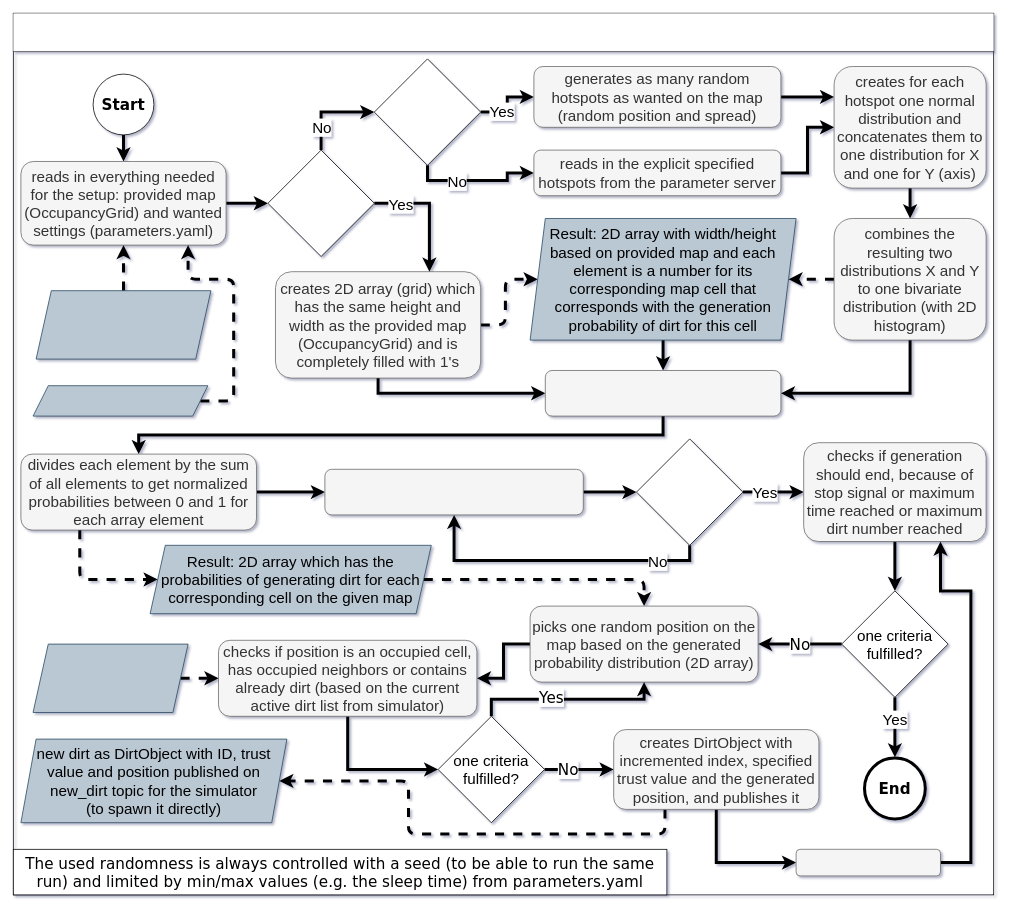
The diagram is 1012 pixels wide and 913 high, and some of its shapes have lost their labels. Here are the shapes that lost their labels. From the top down, the centre of each, then its label:
(x=503, y=32): Basic dirt generation flow in global_dirt_generator.py
(x=427, y=111): random hotspots wanted?
(x=320, y=202): uniform distribution wanted?
(x=123, y=324): Transformed OccupancyGrid from provided_map topic
(x=120, y=400): parameters.yaml
(x=663, y=393): replaces all array elements which represent an occupied cell with 0
(x=453, y=492): signals "ready" to the control_master and waits for the returning start signal
(x=689, y=491): start signal received?
(x=110, y=677): active dirt list from simulator via active_dirt topic
(x=867, y=862): sleeps random time
